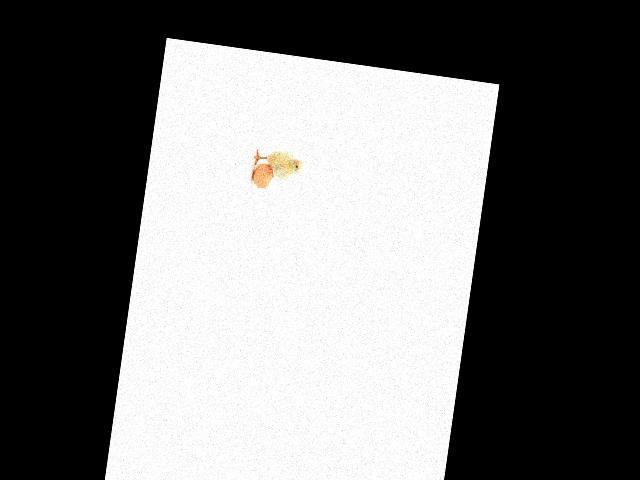egg: (251, 161, 274, 189)
